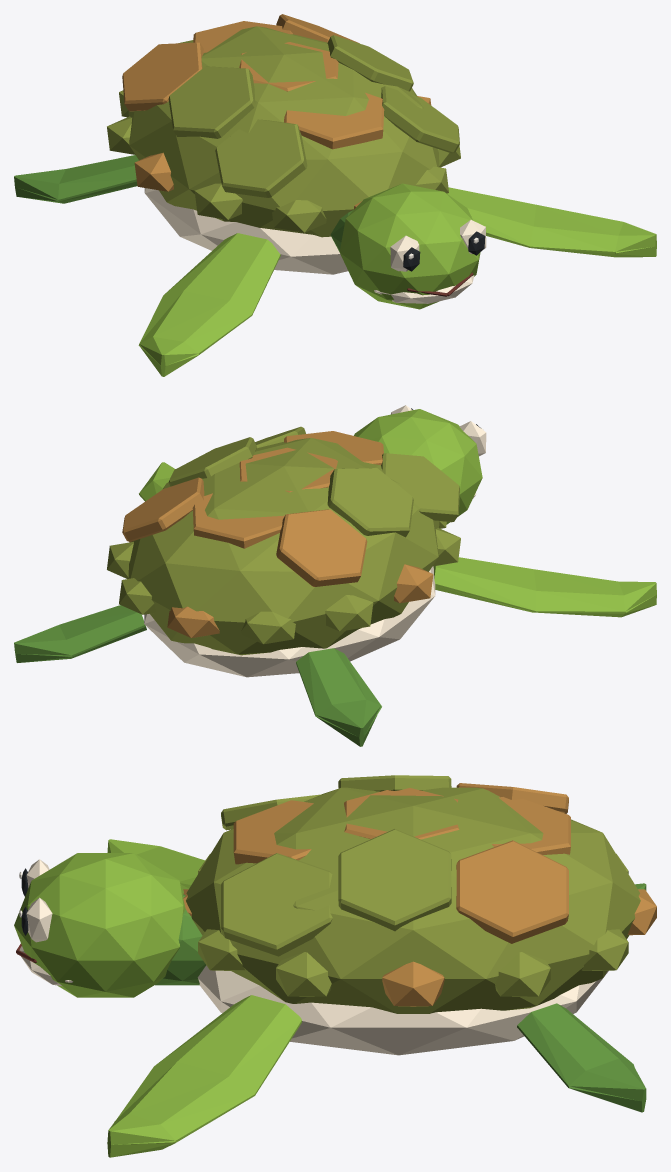
Rendered from sea-turtle.glb.
3 views of the same model, one above another, from view 1: azimuth 30°, elevation 25°; view 2: azimuth 150°, elevation 25°; view 3: azimuth 270°, elevation 25° (orthographic). The views are drawn at different scales.
Visible parts, largest first — view 1: Sea Turtle geometry Shell, Sea Turtle geometry Head, Sea Turtle geometry Flipper front left, Sea Turtle geometry Flipper front right, Sea Turtle geometry Flipper back left; view 2: Sea Turtle geometry Shell, Sea Turtle geometry Flipper front left, Sea Turtle geometry Head, Sea Turtle geometry Flipper back left, Sea Turtle geometry Flipper back right, Sea Turtle geometry Flipper front right; view 3: Sea Turtle geometry Shell, Sea Turtle geometry Head, Sea Turtle geometry Flipper front right, Sea Turtle geometry Flipper back right, Sea Turtle geometry Flipper front left.
Part boxes in pixels (x1,y1,x2,y2): Sea Turtle geometry Shell: [107, 14, 460, 274]; Sea Turtle geometry Head: [330, 183, 486, 309]; Sea Turtle geometry Flipper front left: [138, 233, 280, 376]; Sea Turtle geometry Flipper front right: [447, 187, 656, 257]; Sea Turtle geometry Flipper back left: [14, 155, 138, 203]; Sea Turtle geometry Shell: [107, 426, 460, 677]; Sea Turtle geometry Flipper front left: [433, 557, 656, 617]; Sea Turtle geometry Head: [354, 405, 486, 524]; Sea Turtle geometry Flipper back left: [296, 648, 381, 746]; Sea Turtle geometry Flipper back right: [14, 605, 146, 662]; Sea Turtle geometry Flipper front right: [139, 462, 175, 501]; Sea Turtle geometry Shell: [183, 775, 656, 1055]; Sea Turtle geometry Head: [14, 853, 205, 997]; Sea Turtle geometry Flipper front right: [107, 995, 301, 1157]; Sea Turtle geometry Flipper back right: [517, 1003, 646, 1112]; Sea Turtle geometry Flipper front left: [107, 839, 204, 889].
Size of the model in its own units: 0.9462 by 0.3351 by 0.8775.
